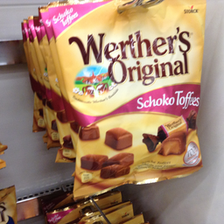candy: (53, 3, 201, 191)
